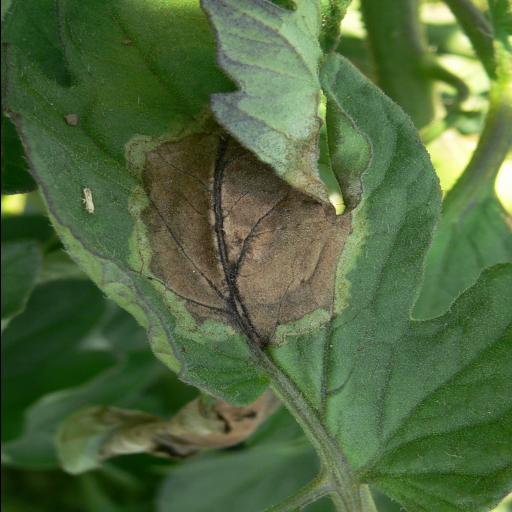disease_tomato: (12, 7, 493, 499)
